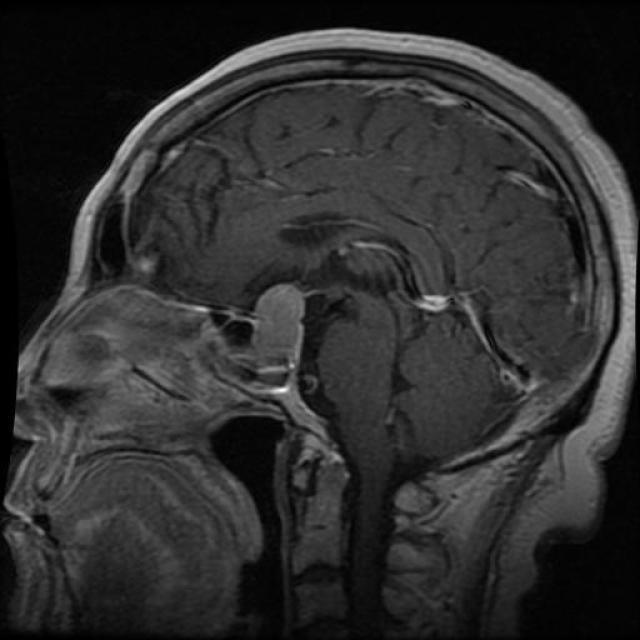pituitary: (246, 275, 311, 399)
